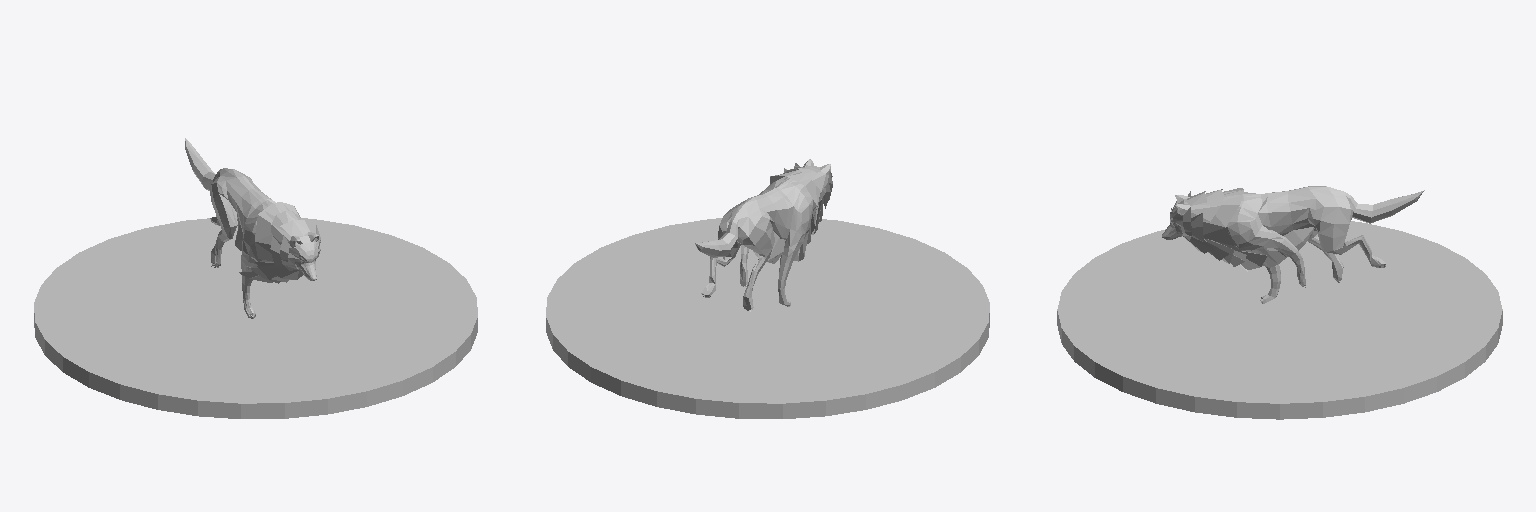
Rendered from Wolf_0004.obj.
3 renders of one model, left to right at view 1: azimuth 30°, elevation 25°; view 2: azimuth 150°, elevation 25°; view 3: azimuth 270°, elevation 25°, orthographic.
Visible parts, largest first — view 1: Circle, Wolf1_Material__wolf_col_tga_0, Wolf2_fur__fella3_jpg_001_0; view 2: Circle, Wolf1_Material__wolf_col_tga_0, Wolf2_fur__fella3_jpg_001_0; view 3: Circle, Wolf1_Material__wolf_col_tga_0, Wolf2_fur__fella3_jpg_001_0.
Part boxes in pixels (bbox=[...]): Circle: bbox=[34, 218, 477, 418]; Wolf1_Material__wolf_col_tga_0: bbox=[185, 138, 318, 318]; Wolf2_fur__fella3_jpg_001_0: bbox=[235, 202, 320, 283]; Circle: bbox=[546, 218, 989, 418]; Wolf1_Material__wolf_col_tga_0: bbox=[695, 159, 830, 310]; Wolf2_fur__fella3_jpg_001_0: bbox=[753, 163, 832, 263]; Circle: bbox=[1057, 221, 1502, 419]; Wolf1_Material__wolf_col_tga_0: bbox=[1162, 186, 1424, 303]; Wolf2_fur__fella3_jpg_001_0: bbox=[1170, 188, 1314, 271].
Bounding box in the file's own units: 1.69 × 0.5819 × 1.69.